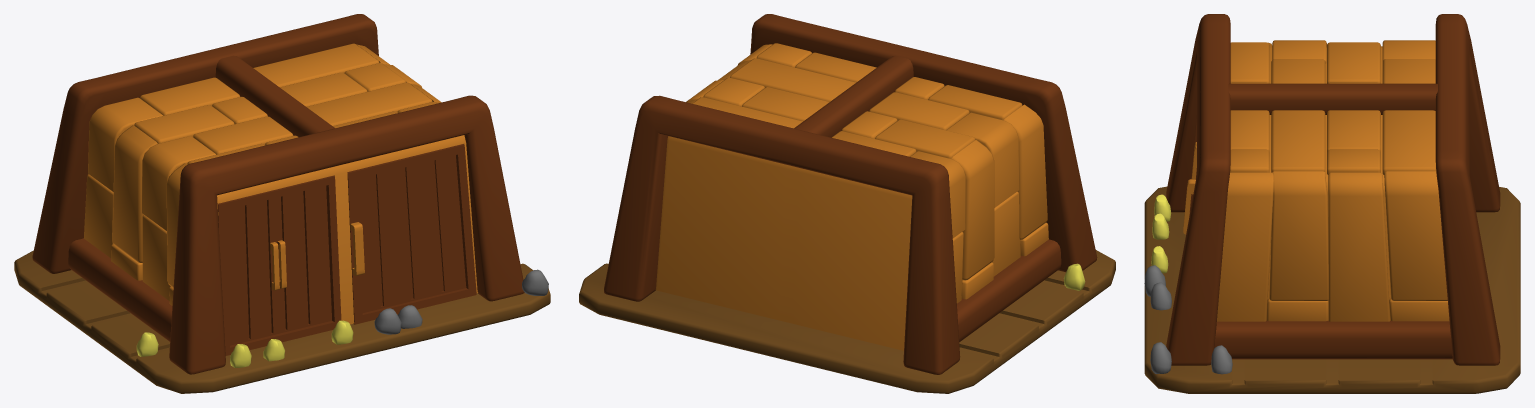
File: gold and stone storage level1.fbx
3 renders of one model, left to right at view 1: azimuth 30°, elevation 25°; view 2: azimuth 150°, elevation 25°; view 3: azimuth 270°, elevation 25°, orthographic. The views are drawn at different scales.
Parts seen in each view (by area): view 1: Cube.037; view 2: Cube.037; view 3: Cube.037.
Boxes of the visible parts, x1,y1,x2,y2 form: Cube.037: [14, 14, 550, 393]; Cube.037: [579, 14, 1115, 393]; Cube.037: [1144, 14, 1520, 393].
Bounding box in the file's own units: 1431 × 691 × 1138.
